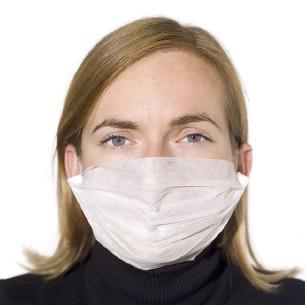OK: (84, 85, 231, 270)
